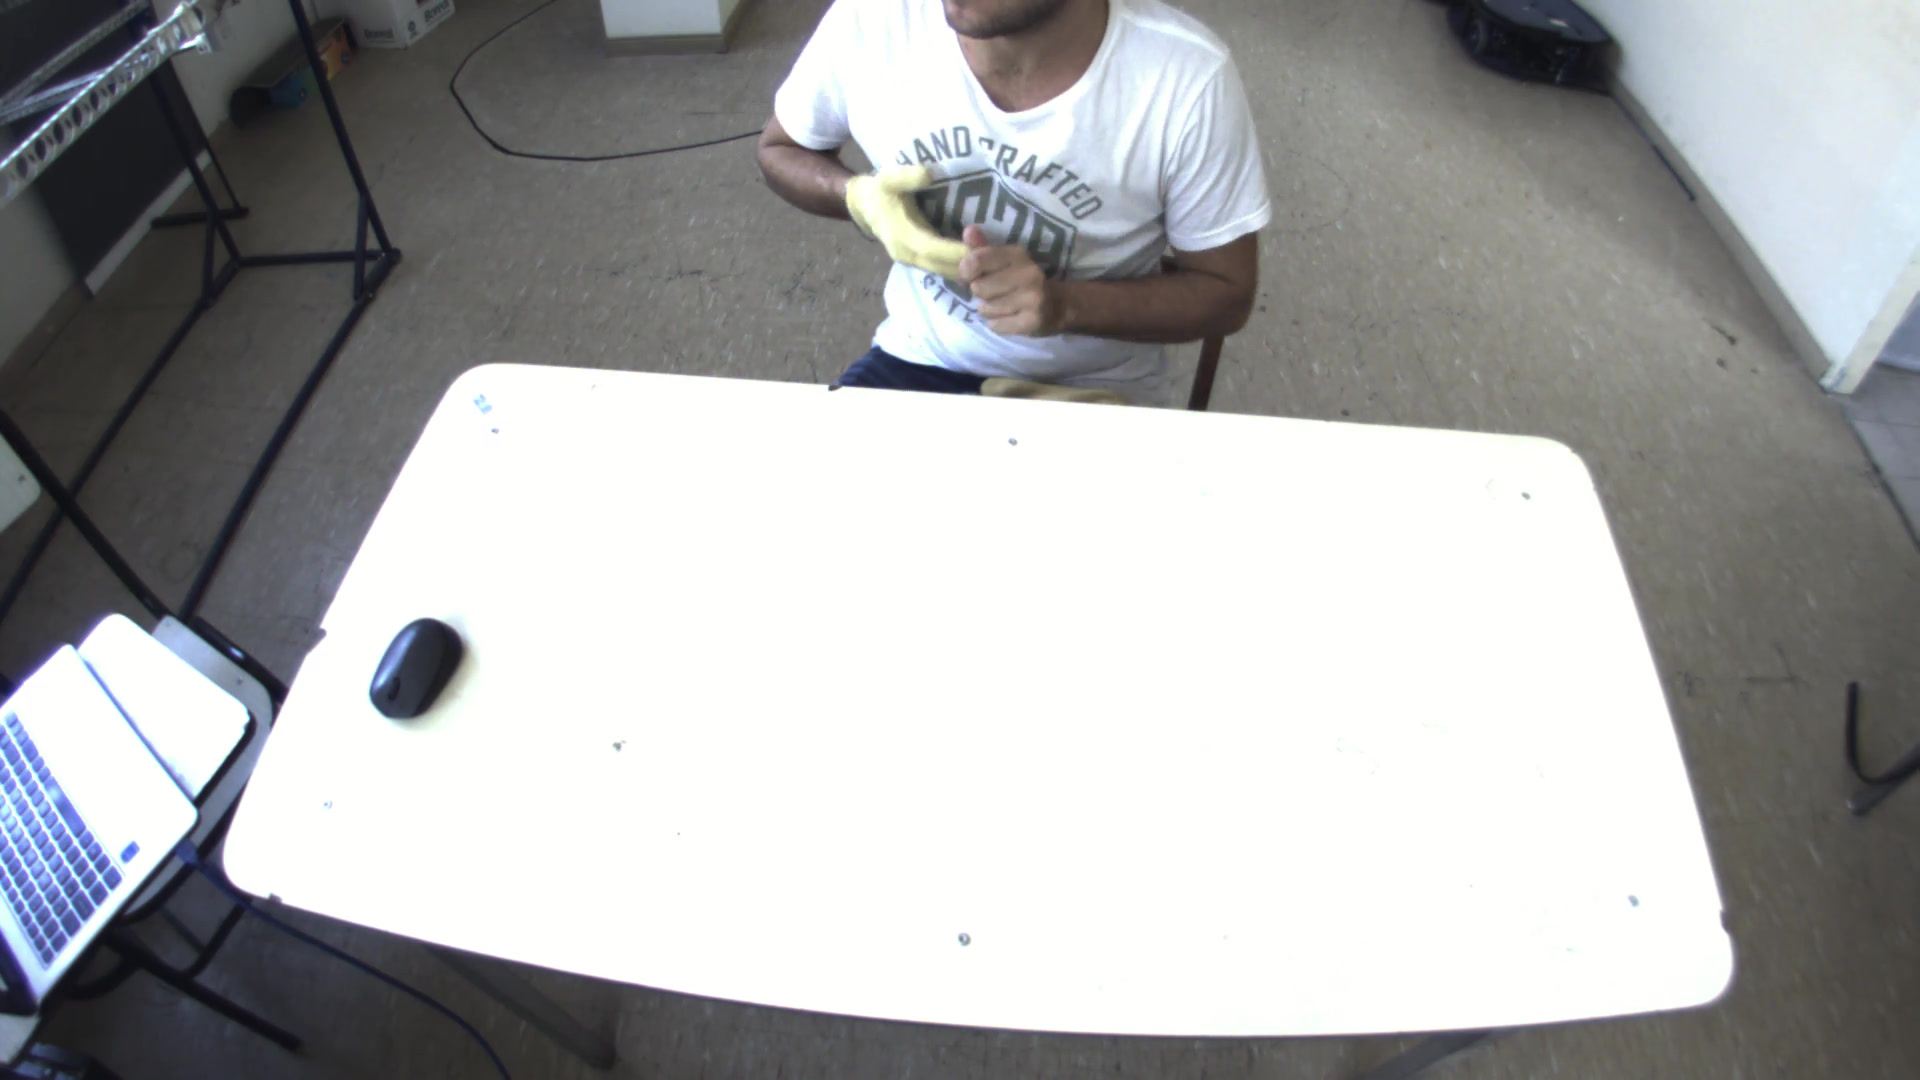hand: (843, 160, 982, 285), (947, 225, 1064, 342)
